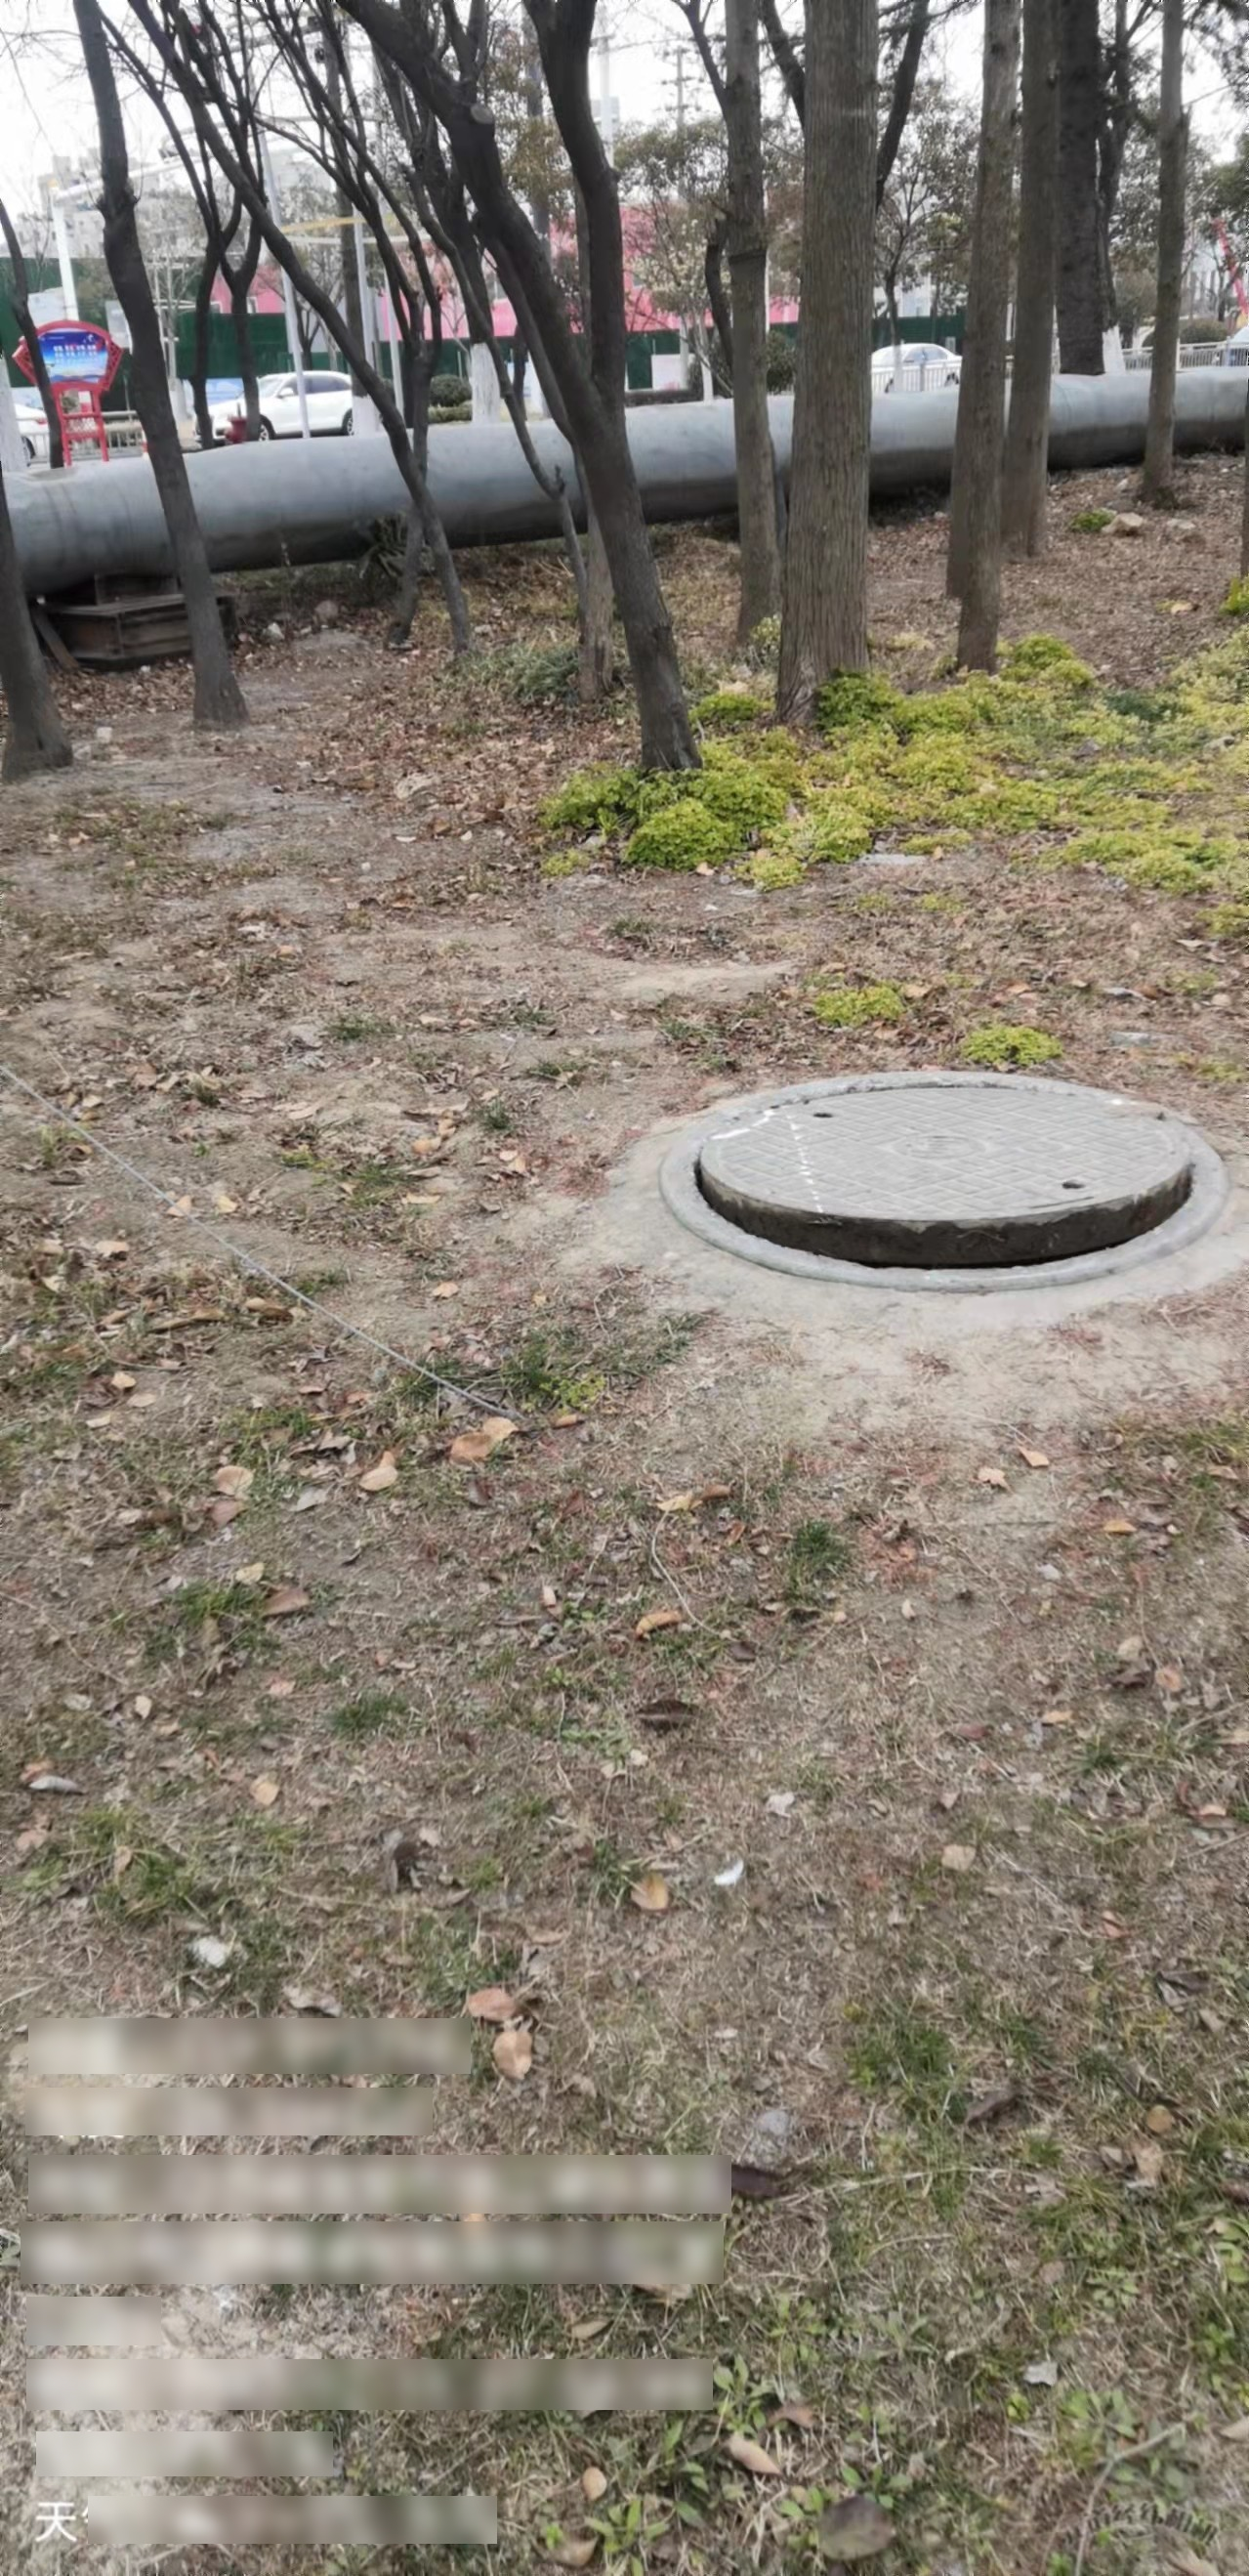uncovered: (665, 1069, 1226, 1290)
